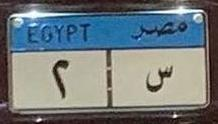2: (49, 58, 74, 99)
seen: (145, 61, 174, 96)
